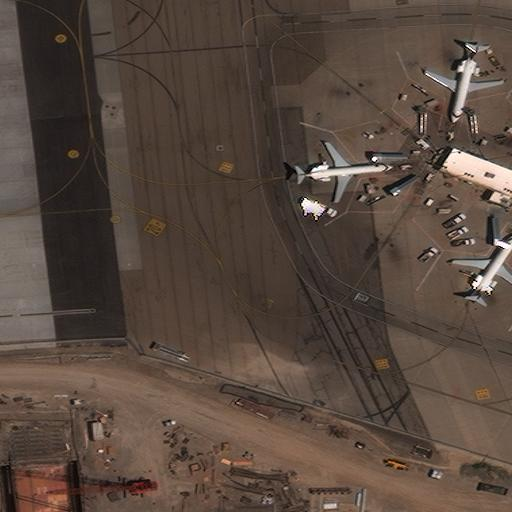Medium Civil Transport: (424, 44, 503, 123), (296, 141, 393, 201), (452, 235, 512, 302)
